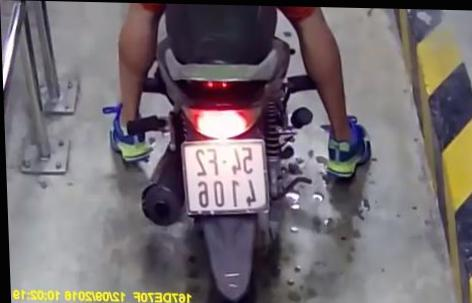License_Plate: (172, 133, 277, 222)
